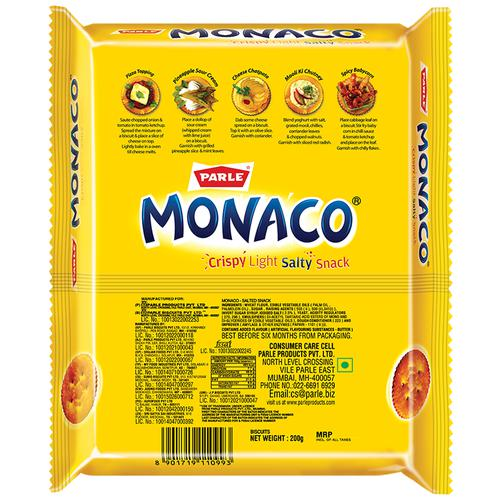VEG: (336, 357, 354, 373)
